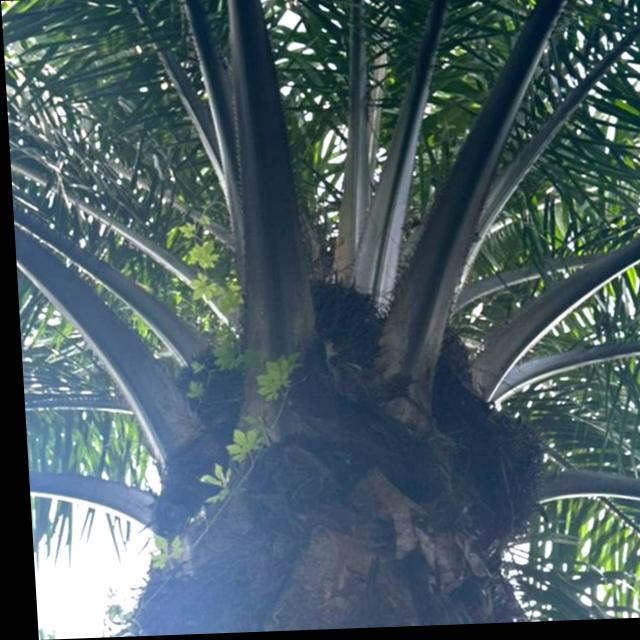almost: (305, 272, 386, 378)
